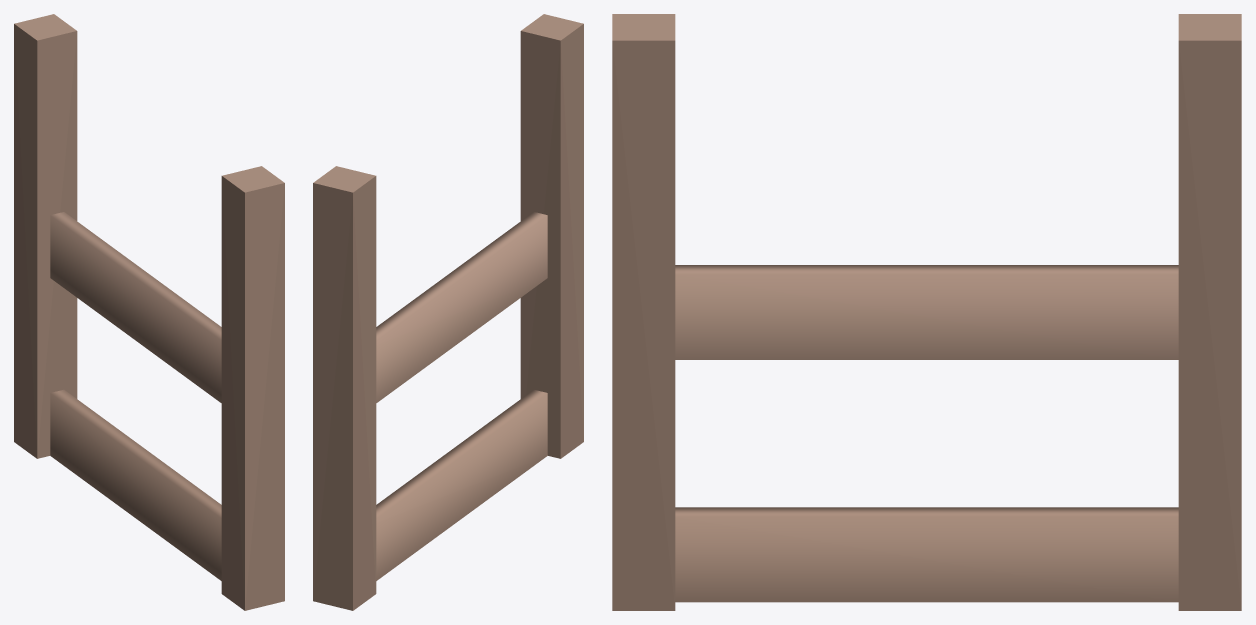
The model's file is kenney_poles-horizontal.fbx.
The picture shows the model from 3 angles, left to right: view 1: azimuth 30°, elevation 25°; view 2: azimuth 150°, elevation 25°; view 3: azimuth 270°, elevation 25°; orthographic projection. The views are drawn at different scales.
Visible parts, largest first — view 1: poles-horizontal; view 2: poles-horizontal; view 3: poles-horizontal.
Boxes of the visible parts, <box> form: poles-horizontal: <box>14,14,284,610</box>; poles-horizontal: <box>313,14,583,610</box>; poles-horizontal: <box>612,14,1241,610</box>.
Size of the model in its own units: 10 by 100 by 100.
